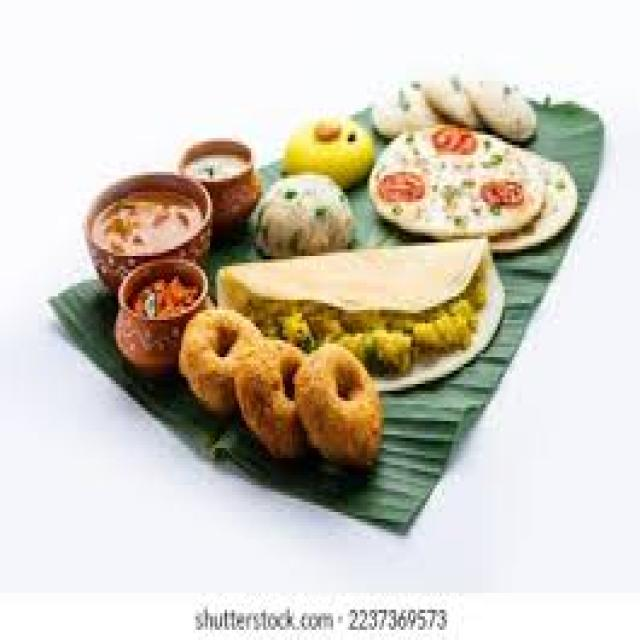MEDU VADA: (234, 337, 302, 455)
